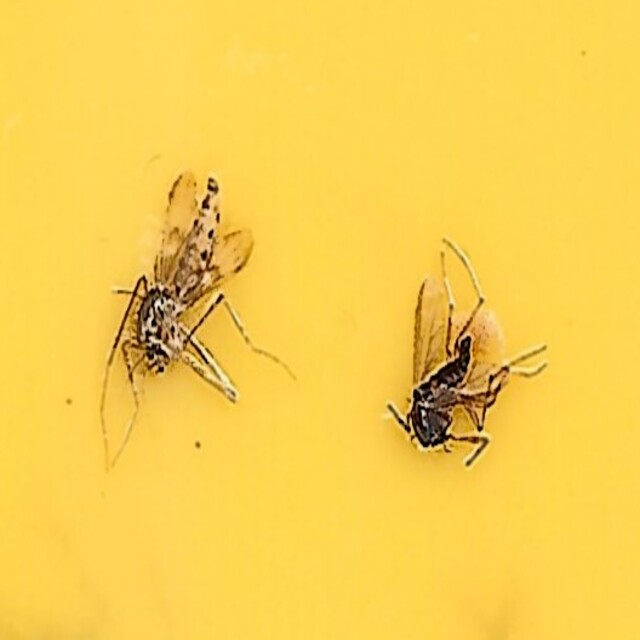Nematocera: (121, 171, 257, 410), (402, 270, 519, 469)
